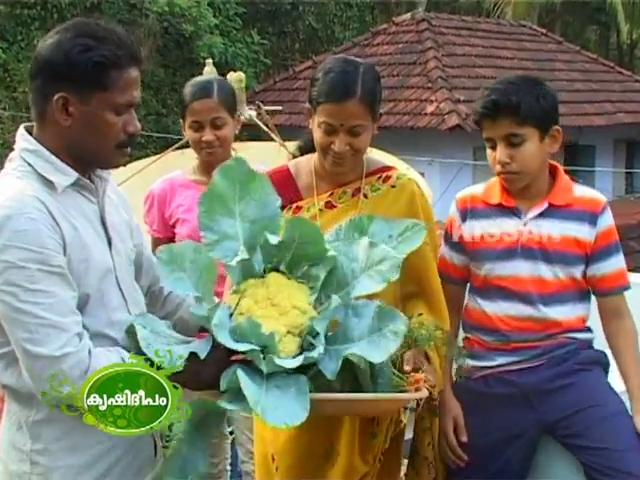person: (1, 16, 236, 479), (255, 55, 449, 480), (437, 74, 640, 479), (142, 75, 254, 480)
